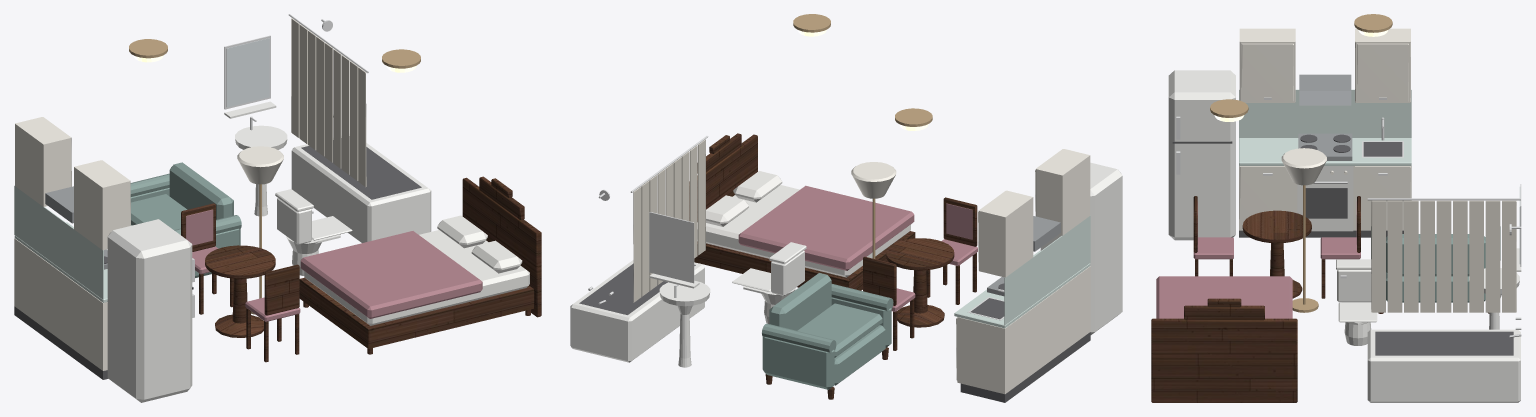
File: studio_r.glb
3 views of the same model, side by side, from view 1: azimuth 30°, elevation 25°; view 2: azimuth 150°, elevation 25°; view 3: azimuth 270°, elevation 25° (orthographic). The views are drawn at different scales.
Parts seen in each view (by area): view 1: studio_r_dkwood, studio_r_cream, studio_r_appliance, studio_r_porcelain, studio_r_fabric3, studio_r_cloth, studio_r_linen, studio_r_fabric, studio_r_tile_k, studio_r_dark, studio_r_mirror, studio_r_bronze (+2 smaller); view 2: studio_r_cream, studio_r_dkwood, studio_r_fabric, studio_r_fabric3, studio_r_porcelain, studio_r_cloth, studio_r_appliance, studio_r_tile_k, studio_r_linen, studio_r_dark, studio_r_chrome, studio_r_bronze (+1 smaller); view 3: studio_r_dkwood, studio_r_cloth, studio_r_cream, studio_r_appliance, studio_r_porcelain, studio_r_tile_k, studio_r_dark, studio_r_fabric3, studio_r_steel, studio_r_bronze, studio_r_chrome, studio_r_fabric.
Boxes of the visible parts, left/top/right/bottom form: studio_r_dkwood: left=181, top=176, right=541, bottom=362; studio_r_cream: left=14, top=117, right=283, bottom=370; studio_r_appliance: left=107, top=219, right=192, bottom=402; studio_r_porcelain: left=224, top=101, right=431, bottom=275; studio_r_fabric3: left=186, top=209, right=482, bottom=321; studio_r_cloth: left=291, top=18, right=366, bottom=186; studio_r_linen: left=304, top=215, right=529, bottom=325; studio_r_fabric: left=130, top=162, right=241, bottom=277; studio_r_tile_k: left=14, top=185, right=107, bottom=302; studio_r_dark: left=14, top=136, right=421, bottom=379; studio_r_mirror: left=226, top=38, right=269, bottom=107; studio_r_bronze: left=129, top=39, right=420, bottom=314; studio_r_cream: left=851, top=149, right=1090, bottom=394; studio_r_dkwood: left=689, top=133, right=977, bottom=399; studio_r_fabric: left=762, top=273, right=893, bottom=389; studio_r_fabric3: left=738, top=185, right=977, bottom=311; studio_r_porcelain: left=570, top=242, right=806, bottom=367; studio_r_cloth: left=633, top=139, right=705, bottom=302; studio_r_appliance: left=1040, top=162, right=1122, bottom=334; studio_r_tile_k: left=954, top=215, right=1090, bottom=328; studio_r_linen: left=697, top=171, right=910, bottom=277; studio_r_dark: left=579, top=263, right=1090, bottom=402; studio_r_chrome: left=588, top=136, right=1004, bottom=320; studio_r_bronze: left=793, top=14, right=932, bottom=258; studio_r_dkwood: left=1151, top=196, right=1489, bottom=402; studio_r_cloth: left=1371, top=200, right=1516, bottom=312; studio_r_cream: left=1239, top=28, right=1411, bottom=230; studio_r_appliance: left=1168, top=70, right=1353, bottom=240; studio_r_porcelain: left=1336, top=248, right=1521, bottom=402; studio_r_tile_k: left=1239, top=89, right=1411, bottom=165; studio_r_dark: left=1172, top=134, right=1513, bottom=355; studio_r_fabric3: left=1156, top=201, right=1360, bottom=318; studio_r_steel: left=1298, top=74, right=1352, bottom=160; studio_r_bronze: left=1210, top=14, right=1392, bottom=312; studio_r_chrome: left=1176, top=97, right=1521, bottom=337; studio_r_fabric: left=1371, top=226, right=1500, bottom=302.
Size of the model in its own units: 4.64 by 2.85 by 3.85.
15 materials, 1 textured.
